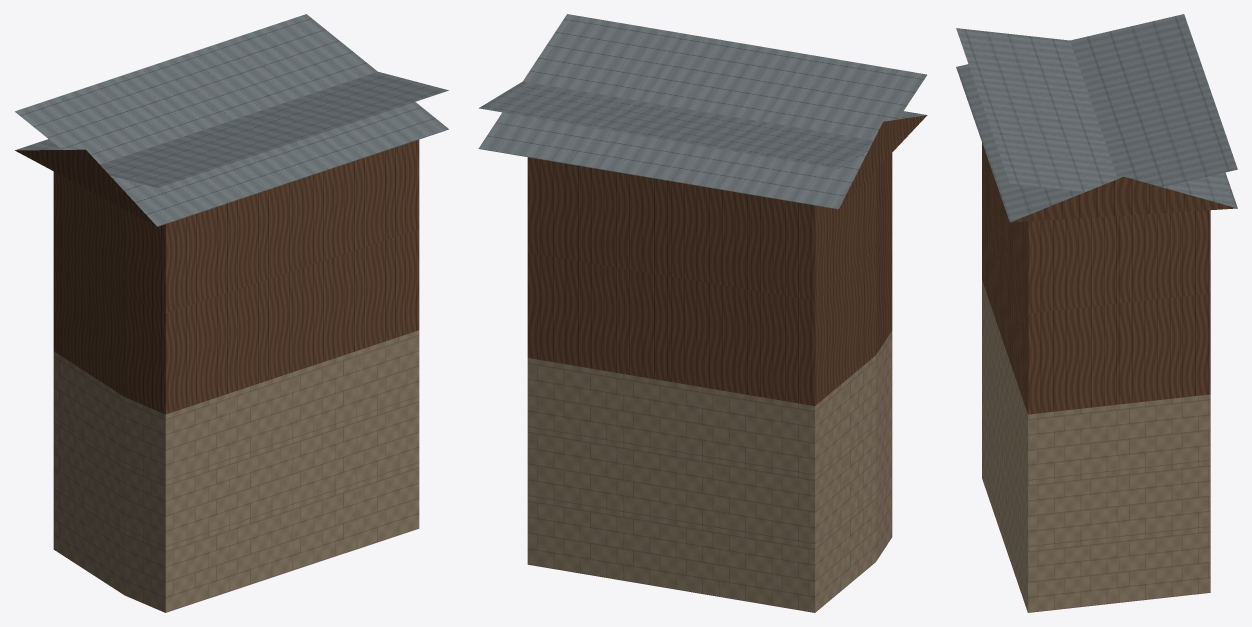
The model's file is bld_c37_-11_543.gltf.
3 renders of one model, left to right at view 1: azimuth 30°, elevation 25°; view 2: azimuth 150°, elevation 25°; view 3: azimuth 270°, elevation 25°, orthographic. The views are drawn at different scales.
Visible parts, largest first — view 1: bld_c37_-11_543; view 2: bld_c37_-11_543; view 3: bld_c37_-11_543.
Part boxes in pixels (left/top/right/bottom): bld_c37_-11_543: left=15, top=14, right=448, bottom=612; bld_c37_-11_543: left=478, top=14, right=927, bottom=612; bld_c37_-11_543: left=956, top=14, right=1237, bottom=612.
Size of the model in its own units: 9.36 by 11.3 by 6.57.
4 materials, 4 textured.
